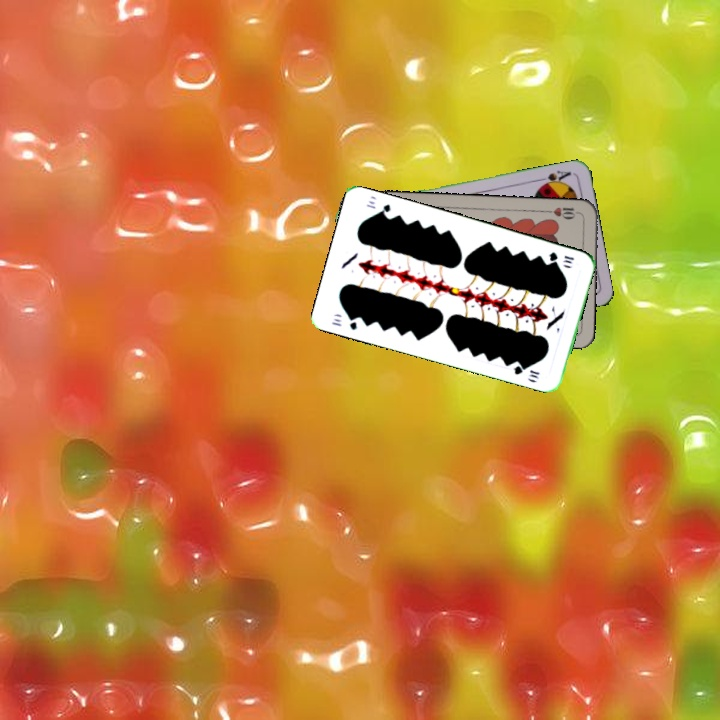G10: (327, 312, 360, 333), (545, 248, 577, 267)
H10: (542, 203, 583, 222)
SA: (535, 166, 574, 189)
